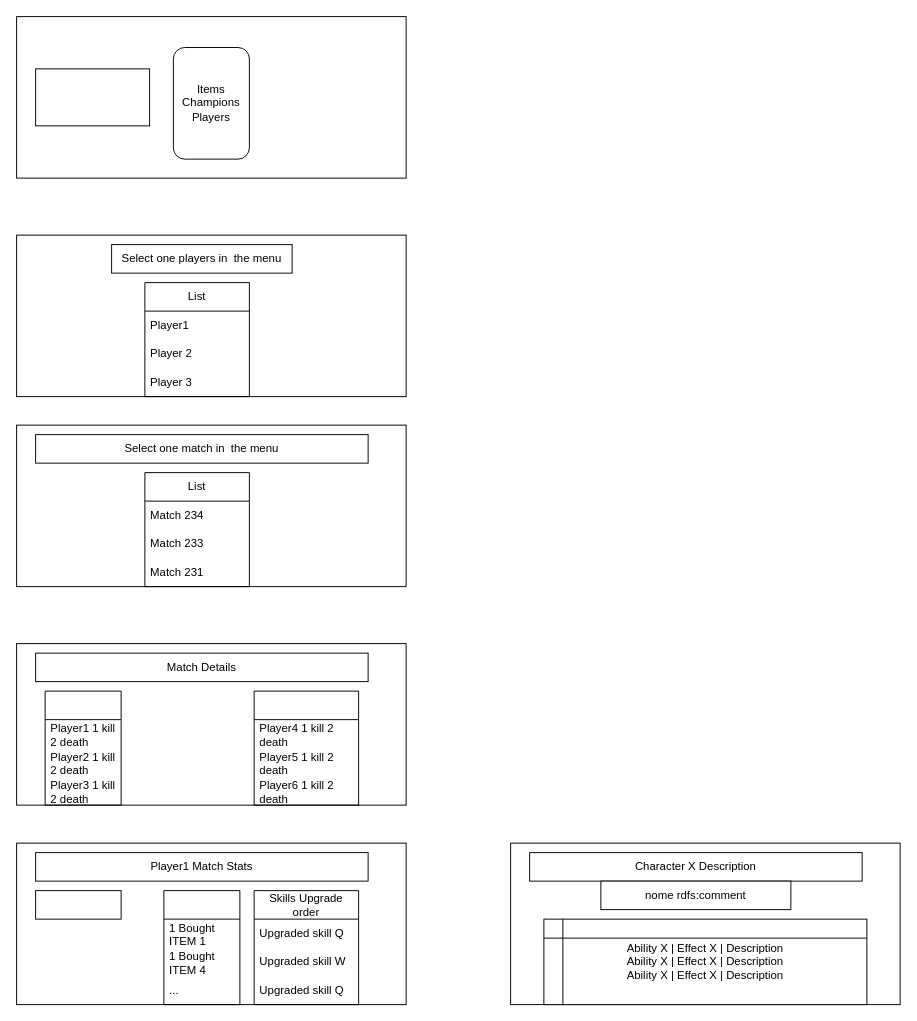
This 917x1021 diagram has some shape labels left out. The box of each missing label's shape, as (x1, y1, x2, y2) in pixels:
Champion Name: (35, 890, 121, 919)
Inventory: (163, 890, 240, 1005)
LOL Data Analyzer: (35, 68, 150, 126)
TEAM A: (44, 690, 121, 805)
TEAM B: (253, 690, 359, 805)
